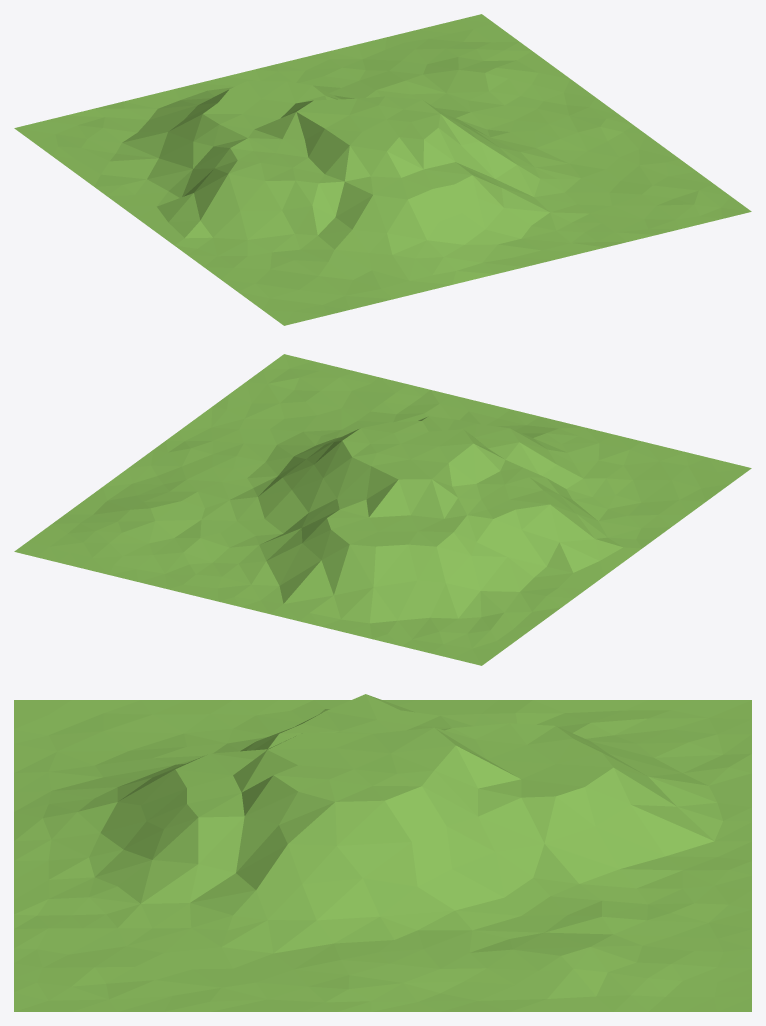
The model's file is MT_Terrain_M_c_17_LOD.fbx.
The picture shows the model from 3 angles, top to bottom: view 1: azimuth 30°, elevation 25°; view 2: azimuth 150°, elevation 25°; view 3: azimuth 270°, elevation 25°; orthographic projection. The views are drawn at different scales.
Parts seen in each view (by area): view 1: MT_Terrain_M_c_17_LOD0; view 2: MT_Terrain_M_c_17_LOD0; view 3: MT_Terrain_M_c_17_LOD0.
Part boxes in pixels (<box>): MT_Terrain_M_c_17_LOD0: <box>14,14,751,325</box>; MT_Terrain_M_c_17_LOD0: <box>14,354,751,665</box>; MT_Terrain_M_c_17_LOD0: <box>14,694,751,1011</box>.
Size of what is drawn, in the model's own units: 5000 by 631 by 5000.
